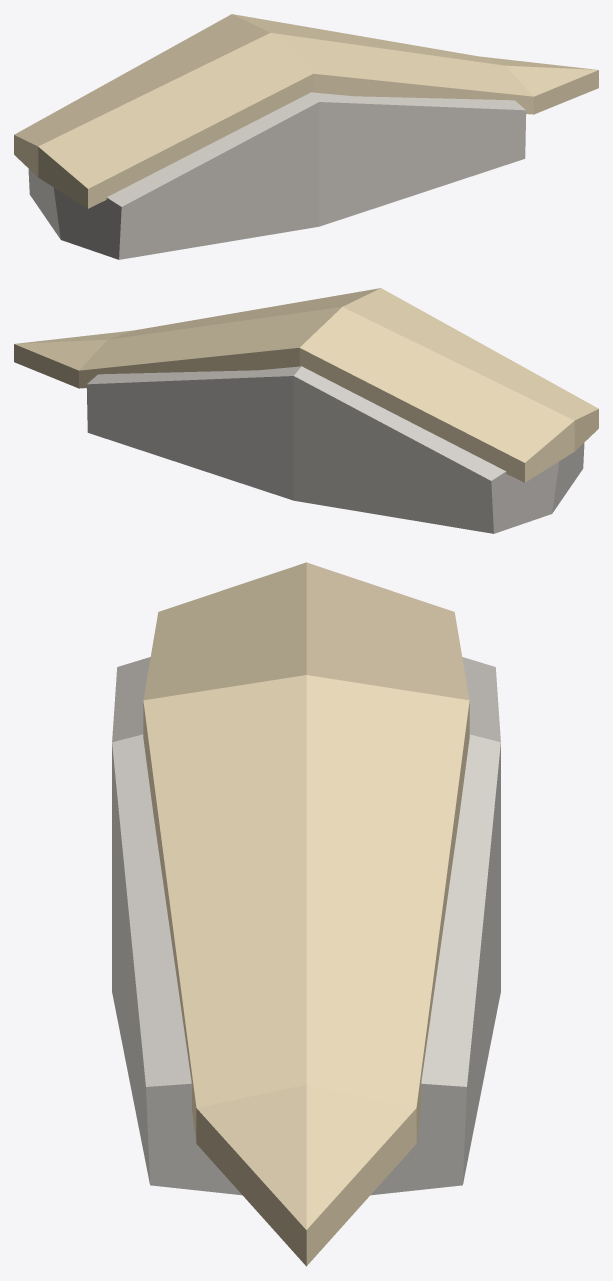
Rendered from niguiriShrimpWhiteFish.fbx.
3 views of the same model, one above another, from view 1: azimuth 30°, elevation 25°; view 2: azimuth 150°, elevation 25°; view 3: azimuth 270°, elevation 25° (orthographic). The views are drawn at different scales.
Visible parts, largest first — view 1: niguiriShrimpWhiteFish; view 2: niguiriShrimpWhiteFish; view 3: niguiriShrimpWhiteFish.
Boxes of the visible parts, bbox=[...] form: niguiriShrimpWhiteFish: bbox=[14, 14, 598, 259]; niguiriShrimpWhiteFish: bbox=[14, 288, 598, 533]; niguiriShrimpWhiteFish: bbox=[112, 562, 500, 1266].
Size of the model in its own units: 16.13 by 4.35 by 4.84.
Materials: 1 (1 with a texture image).
